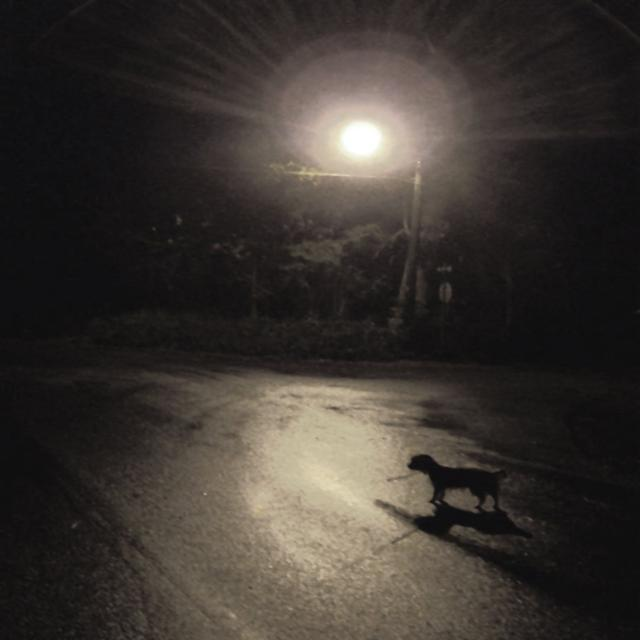Dog: (321, 356, 598, 611)
